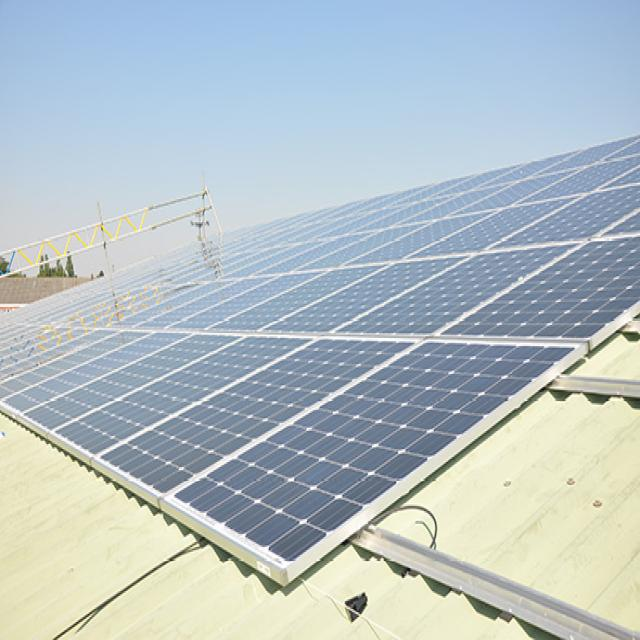clean-solar-panel: (1, 138, 640, 583)
